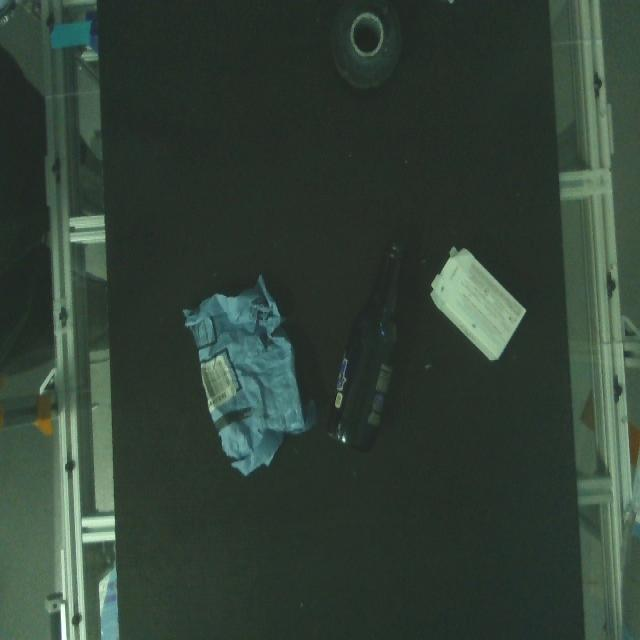non-paper: (326, 238, 412, 465), (328, 0, 408, 106)
paper: (177, 280, 321, 484), (423, 240, 546, 380)
